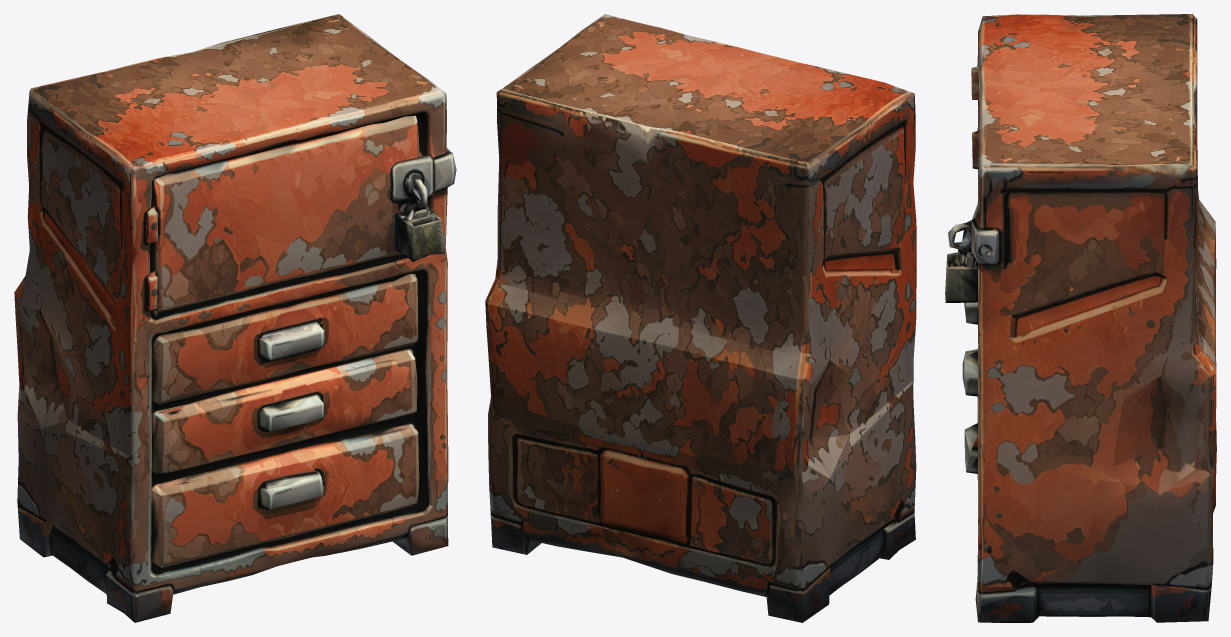
Rendered from Loot_ToolCabinet_Closed.fbx.
The picture shows the model from 3 angles, left to right: view 1: azimuth 30°, elevation 25°; view 2: azimuth 150°, elevation 25°; view 3: azimuth 270°, elevation 25°; orthographic projection.
Visible parts, largest first — view 1: texture_mapping; view 2: texture_mapping; view 3: texture_mapping.
Part boxes in pixels (left/top/right/bottom): texture_mapping: left=14, top=14, right=456, bottom=622; texture_mapping: left=485, top=14, right=916, bottom=622; texture_mapping: left=945, top=14, right=1216, bottom=622.
Bounding box in the file's own units: 0.75 × 0.5373 × 1.
Materials: 1 (1 with a texture image).
